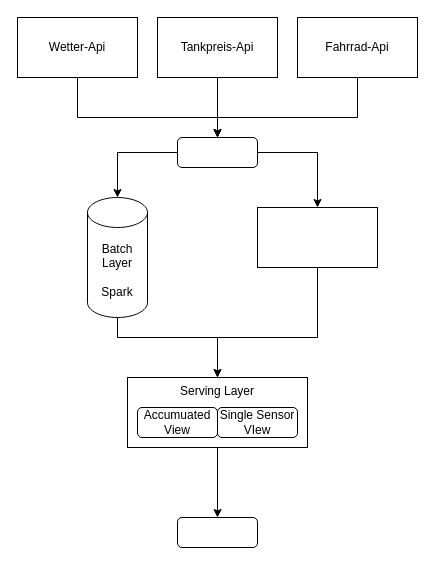
Some shapes in this 435 by 565 pixel diagram are drawn without their labels. The centre of each missing label's shape, as x and y in pixels:
"Kafka" belongs at pixel 217 152.
"Matpotlib" belongs at pixel 217 532.
"Speed Layer" belongs at pixel 317 237.
